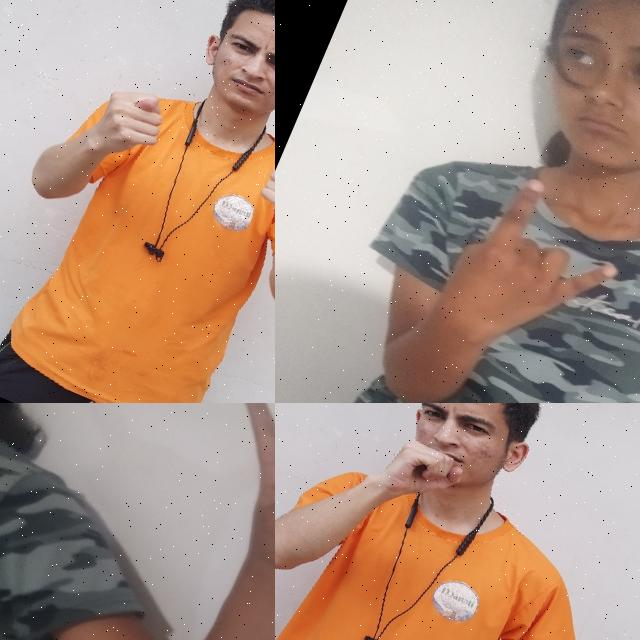Corna: (418, 152, 640, 388), (166, 403, 275, 631)
Dulya: (76, 70, 180, 180), (236, 143, 275, 256)
Fist Mouth: (350, 403, 568, 553)
